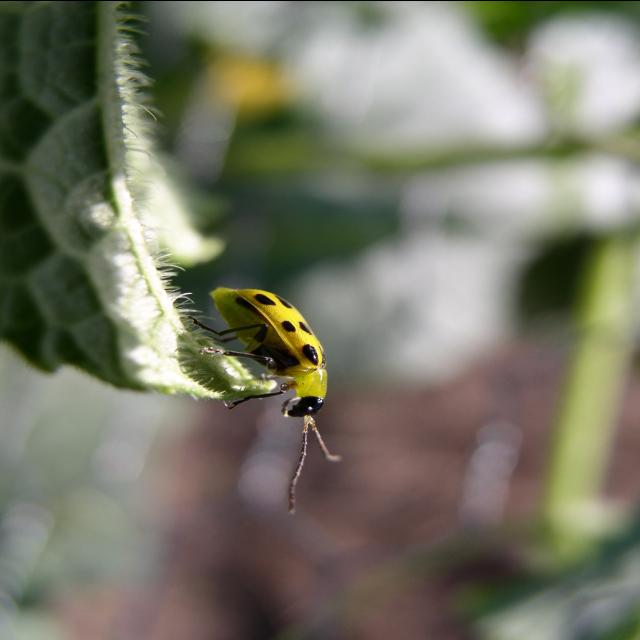cucumber_beetle: (183, 282, 354, 516)
